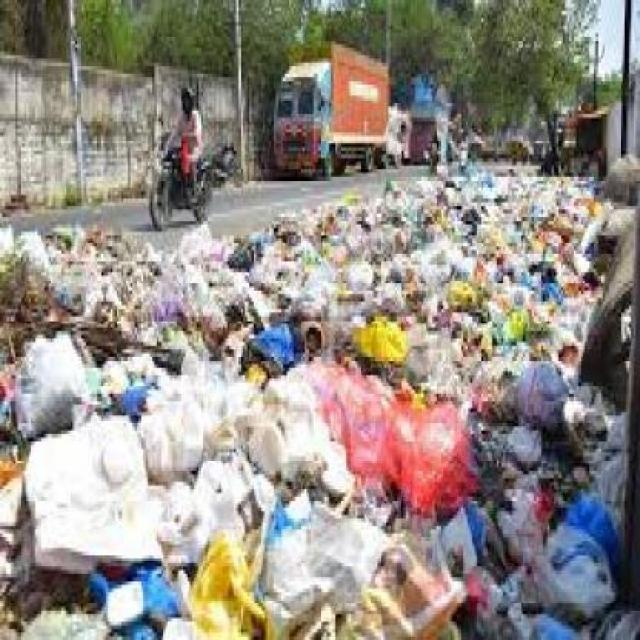garbage: (0, 232, 638, 636), (305, 169, 638, 250)
